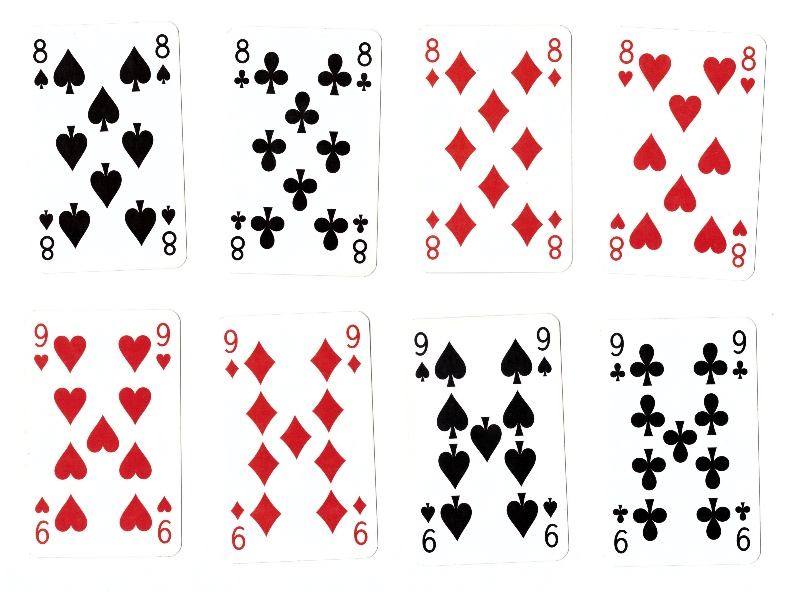8c: (349, 209, 372, 268), (227, 207, 249, 265), (354, 36, 375, 95), (232, 35, 253, 92)
8d: (543, 33, 567, 89), (422, 205, 444, 265), (544, 208, 567, 264), (422, 34, 441, 92)
8h: (614, 35, 638, 90), (604, 210, 628, 264), (737, 43, 759, 98), (728, 218, 749, 273)
8s: (153, 29, 175, 90), (159, 202, 180, 262), (36, 205, 57, 264), (30, 35, 51, 93)
9c: (728, 326, 751, 384), (609, 500, 631, 558), (733, 498, 755, 555), (607, 328, 628, 384)
9d: (220, 325, 243, 382), (350, 490, 370, 549), (343, 321, 364, 377), (228, 498, 249, 553)
9h: (31, 493, 54, 550), (153, 318, 174, 376), (154, 493, 176, 548), (31, 318, 51, 374)
9s: (411, 328, 433, 386), (418, 500, 439, 557), (539, 496, 560, 551), (534, 324, 554, 381)
